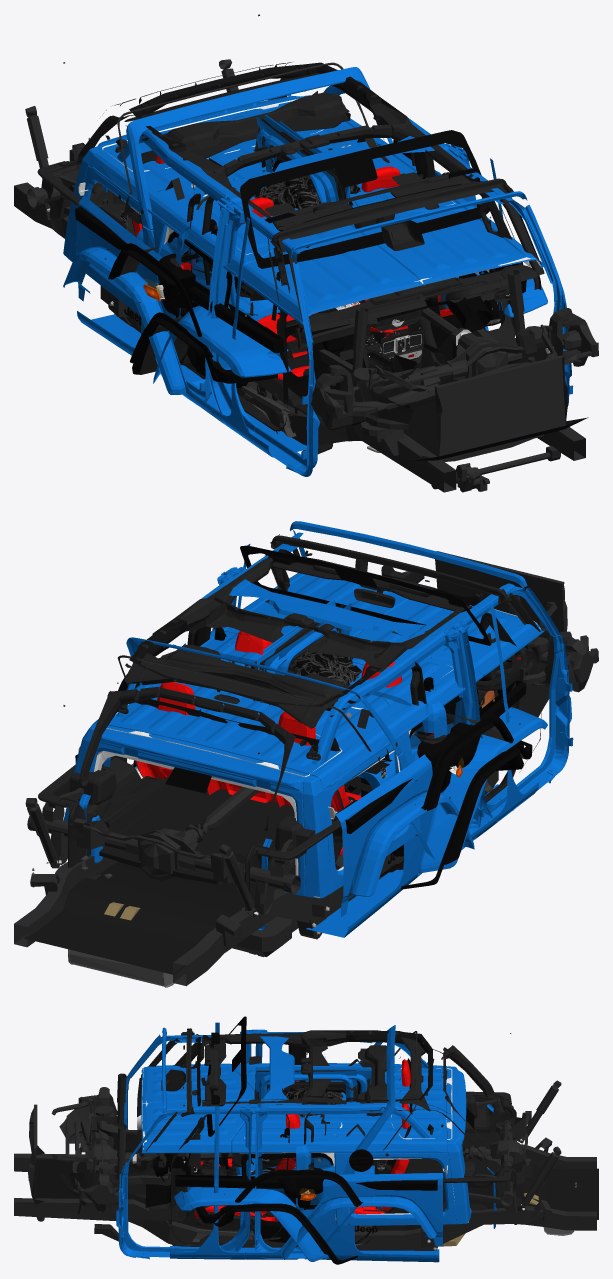
The model's file is jeep_wrangler_392_opt.glb.
3 views of the same model, one above another, from view 1: azimuth 30°, elevation 25°; view 2: azimuth 150°, elevation 25°; view 3: azimuth 270°, elevation 25° (orthographic). The views are drawn at different scales.
Visible parts, largest first — view 1: J:SM_Body_101_SM_Body_101_MI_Glass_In_009, J:SK_Roof_101_001_SK_Roof_101_MI_Glass_In_008, J:SM_Body_101_SM_Body_101_MI_Glass_In_013_J:MI_Cabin_Leather, J:SM_Body_101_SM_Body_101_MI_Glass_In_010, J:SK_Suspension_101_001_SK_Suspension_101_MI_Exhaust_009_J:M, J:SM_Body_101_SM_Body_101_MI_Glass_In_012, J:SM_Fender_F_101_SM_Fender_F_101_MI_Logo_014, J:SM_Fender_B_101_SM_Fender_B_101_MI_Exhaust_016, J:SM_Body_101_SM_Body_101_MI_Glass_In_014_J:MI_Cabin_Plastic, J:SM_Fender_F_101_SM_Fender_F_101_MI_Logo_012_J:MI_Exhaust1_, J:SM_Body_101_SM_Body_101_MI_Glass_In_011, J:SM_SideSkirts_101_SM_SideSkirts_101_MI_Exhaust_019_J:MI_Ex (+10 smaller); view 2: J:SM_Body_101_SM_Body_101_MI_Glass_In_009, J:SK_Roof_101_001_SK_Roof_101_MI_Glass_In_008, J:SM_Body_101_SM_Body_101_MI_Glass_In_013_J:MI_Cabin_Leather, J:SM_Body_101_SM_Body_101_MI_Glass_In_012, J:SM_Body_101_SM_Body_101_MI_Glass_In_010, J:SK_Suspension_101_001_SK_Suspension_101_MI_Exhaust_009_J:M, J:SM_Body_101_SM_Body_101_MI_Glass_In_011, J:SM_Fender_F_101_SM_Fender_F_101_MI_Logo_014, J:SM_Fender_B_101_SM_Fender_B_101_MI_Exhaust_016, J:SM_Body_101_SM_Body_101_MI_Glass_In_014_J:MI_Cabin_Plastic, J:SM_Body_101_SM_Body_101_MI_Glass_In_023_J:MI_Cabin_Leather, J:SM_Fender_F_101_SM_Fender_F_101_MI_Logo_012_J:MI_Exhaust1_ (+8 smaller); view 3: J:SK_Roof_101_001_SK_Roof_101_MI_Glass_In_008, J:SM_Body_101_SM_Body_101_MI_Glass_In_009, J:SK_Suspension_101_001_SK_Suspension_101_MI_Exhaust_009_J:M, J:SM_Body_101_SM_Body_101_MI_Glass_In_012, J:SM_Body_101_SM_Body_101_MI_Glass_In_013_J:MI_Cabin_Leather, J:SM_Body_101_SM_Body_101_MI_Glass_In_010, J:SM_Fender_F_101_SM_Fender_F_101_MI_Logo_014, J:SM_Fender_B_101_SM_Fender_B_101_MI_Exhaust_016, J:SM_Body_101_SM_Body_101_MI_Glass_In_011, J:SM_Body_101_SM_Body_101_MI_Glass_In_014_J:MI_Cabin_Plastic, J:SM_Fender_B_101_SM_Fender_B_101_MI_Exhaust_014_J:MI_Exhaus, J:SM_Fender_F_101_SM_Fender_F_101_MI_Logo_012_J:MI_Exhaust1_ (+10 smaller).
Part boxes in pixels (x1,y1,x2,y2): J:SM_Body_101_SM_Body_101_MI_Glass_In_009: (14, 14, 588, 492); J:SK_Roof_101_001_SK_Roof_101_MI_Glass_In_008: (63, 95, 543, 325); J:SM_Body_101_SM_Body_101_MI_Glass_In_013_J:MI_Cabin_Leather: (76, 62, 523, 433); J:SM_Body_101_SM_Body_101_MI_Glass_In_010: (37, 73, 544, 451); J:SK_Suspension_101_001_SK_Suspension_101_MI_Exhaust_009_J:M: (25, 59, 598, 427); J:SM_Body_101_SM_Body_101_MI_Glass_In_012: (102, 85, 573, 476); J:SM_Fender_F_101_SM_Fender_F_101_MI_Logo_014: (77, 67, 547, 383); J:SM_Fender_B_101_SM_Fender_B_101_MI_Exhaust_016: (63, 158, 503, 457); J:SM_Body_101_SM_Body_101_MI_Glass_In_014_J:MI_Cabin_Plastic: (163, 92, 421, 387); J:SM_Fender_F_101_SM_Fender_F_101_MI_Logo_012_J:MI_Exhaust1_: (117, 62, 504, 383); J:SM_Body_101_SM_Body_101_MI_Glass_In_011: (114, 150, 551, 430); J:SM_SideSkirts_101_SM_SideSkirts_101_MI_Exhaust_019_J:MI_Ex: (75, 206, 526, 353); J:SM_Body_101_SM_Body_101_MI_Glass_In_009: (14, 545, 567, 987); J:SK_Roof_101_001_SK_Roof_101_MI_Glass_In_008: (65, 573, 544, 898); J:SM_Body_101_SM_Body_101_MI_Glass_In_013_J:MI_Cabin_Leather: (79, 548, 541, 876); J:SM_Body_101_SM_Body_101_MI_Glass_In_012: (79, 521, 573, 930); J:SM_Body_101_SM_Body_101_MI_Glass_In_010: (38, 534, 544, 910); J:SK_Suspension_101_001_SK_Suspension_101_MI_Exhaust_009_J:M: (25, 559, 598, 917); J:SM_Body_101_SM_Body_101_MI_Glass_In_011: (90, 665, 551, 884); J:SM_Fender_F_101_SM_Fender_F_101_MI_Logo_014: (126, 637, 547, 937); J:SM_Fender_B_101_SM_Fender_B_101_MI_Exhaust_016: (63, 544, 539, 916); J:SM_Body_101_SM_Body_101_MI_Glass_In_014_J:MI_Cabin_Plastic: (158, 599, 484, 856); J:SM_Body_101_SM_Body_101_MI_Glass_In_023_J:MI_Cabin_Leather: (135, 631, 433, 855); J:SM_Fender_F_101_SM_Fender_F_101_MI_Logo_012_J:MI_Exhaust1_: (117, 655, 532, 889); J:SK_Roof_101_001_SK_Roof_101_MI_Glass_In_008: (141, 1063, 471, 1225); J:SM_Body_101_SM_Body_101_MI_Glass_In_009: (14, 1016, 598, 1250); J:SK_Suspension_101_001_SK_Suspension_101_MI_Exhaust_009_J:M: (51, 1073, 561, 1213); J:SM_Body_101_SM_Body_101_MI_Glass_In_012: (116, 1027, 496, 1259); J:SM_Body_101_SM_Body_101_MI_Glass_In_013_J:MI_Cabin_Leather: (145, 1030, 493, 1245); J:SM_Body_101_SM_Body_101_MI_Glass_In_010: (94, 1028, 516, 1246); J:SM_Fender_F_101_SM_Fender_F_101_MI_Logo_014: (174, 1025, 439, 1262); J:SM_Fender_B_101_SM_Fender_B_101_MI_Exhaust_016: (170, 1022, 442, 1259); J:SM_Body_101_SM_Body_101_MI_Glass_In_011: (96, 1058, 501, 1221); J:SM_Body_101_SM_Body_101_MI_Glass_In_014_J:MI_Cabin_Plastic: (219, 1045, 387, 1242); J:SM_Fender_B_101_SM_Fender_B_101_MI_Exhaust_014_J:MI_Exhaus: (214, 1149, 373, 1226); J:SM_Fender_F_101_SM_Fender_F_101_MI_Logo_012_J:MI_Exhaust1_: (195, 1031, 417, 1264).
Size of the model in its own units: 655 by 478 by 1424.
27 materials, 19 textured.
